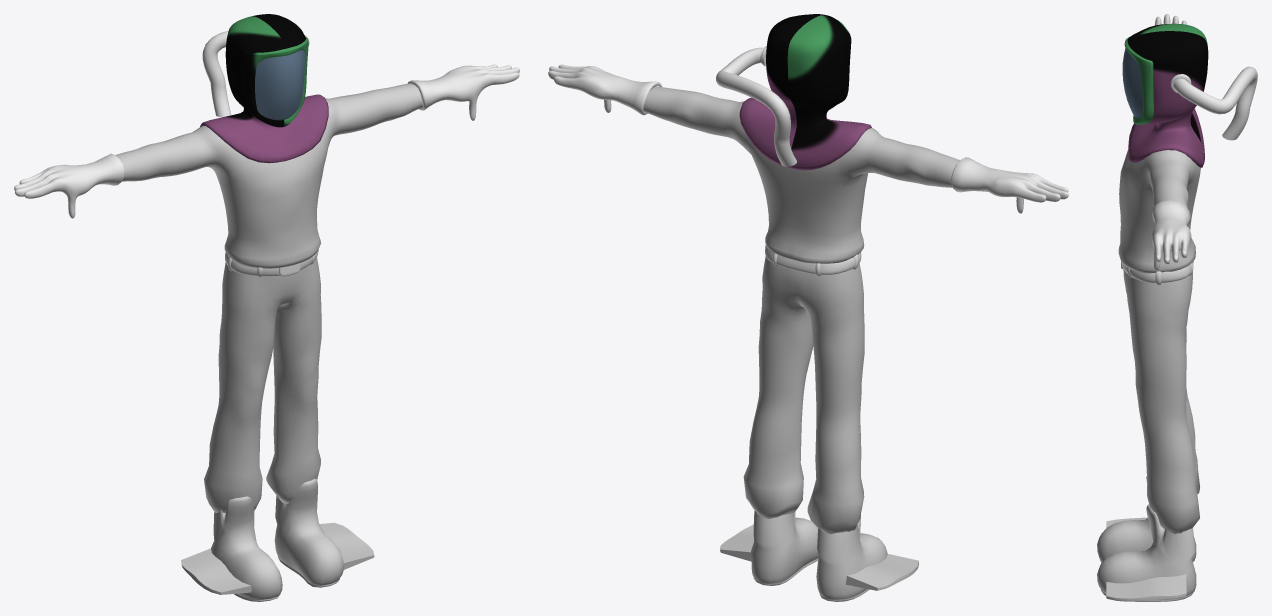
3 renders of one model, left to right at view 1: azimuth 30°, elevation 25°; view 2: azimuth 150°, elevation 25°; view 3: azimuth 270°, elevation 25°, orthographic. The views are drawn at different scales.
Parts seen in each view (by area): view 1: Legs, Shirt, leftfoot, Helm, Gloves, Visor, oxygentube, Cube; view 2: Legs, Shirt, Helm, leftfoot, Gloves, oxygentube, Cube; view 3: Legs, Helm, leftfoot, Shirt, oxygentube, Gloves, Visor, Cube.
Part boxes in pixels (bbox=[...]): Legs: bbox=[204, 257, 321, 513]; Shirt: bbox=[115, 83, 422, 268]; leftfoot: bbox=[181, 478, 374, 601]; Helm: bbox=[200, 14, 328, 163]; Gloves: bbox=[14, 64, 519, 218]; Visor: bbox=[255, 50, 305, 120]; oxygentube: bbox=[202, 30, 309, 117]; Cube: bbox=[225, 250, 318, 277]; Legs: bbox=[743, 256, 864, 534]; Shirt: bbox=[643, 86, 960, 263]; Helm: bbox=[739, 14, 871, 170]; leftfoot: bbox=[720, 510, 918, 601]; Gloves: bbox=[548, 64, 1068, 213]; oxygentube: bbox=[716, 46, 796, 166]; Cube: bbox=[765, 245, 861, 276]; Legs: bbox=[1123, 269, 1199, 534]; Helm: bbox=[1124, 23, 1208, 167]; leftfoot: bbox=[1097, 476, 1196, 601]; Shirt: bbox=[1118, 150, 1200, 273]; oxygentube: bbox=[1170, 66, 1257, 140]; Gloves: bbox=[1151, 14, 1191, 270]; Visor: bbox=[1122, 48, 1142, 117]; Cube: bbox=[1121, 261, 1193, 285].
Size of the model in its own units: 180 by 187 by 49.72.
